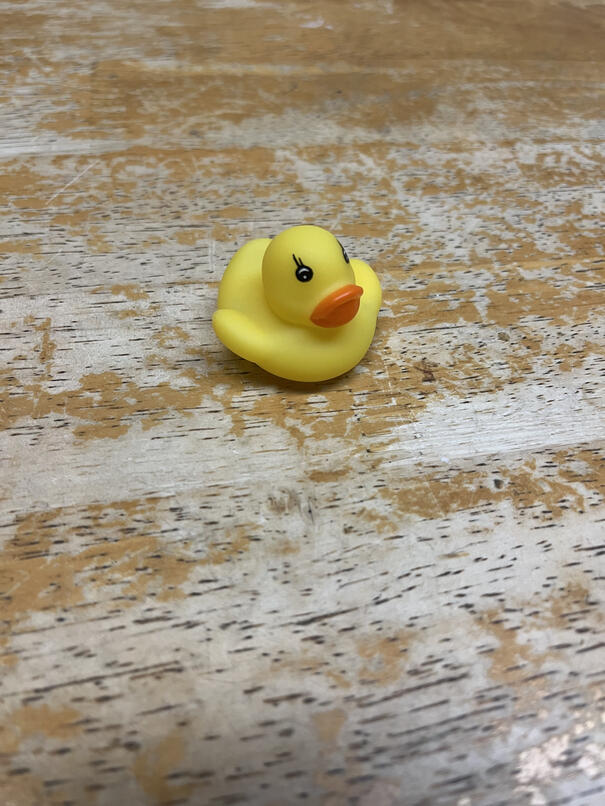duck_regular: (212, 226, 389, 383)
